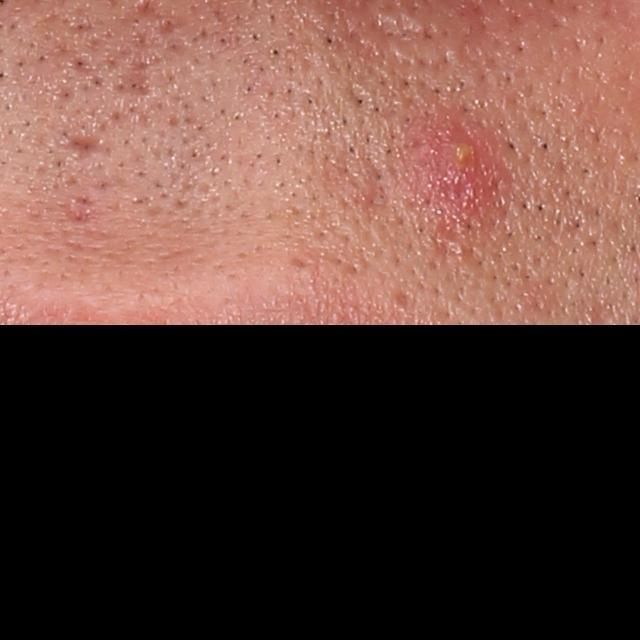atrophic_scar: (111, 69, 164, 105), (55, 130, 101, 162)
pustule: (414, 125, 499, 215)
